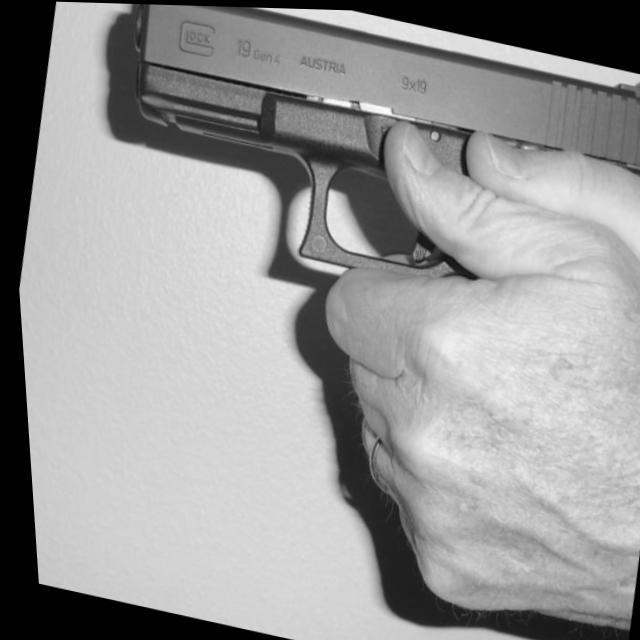weapon: (94, 2, 640, 333)
